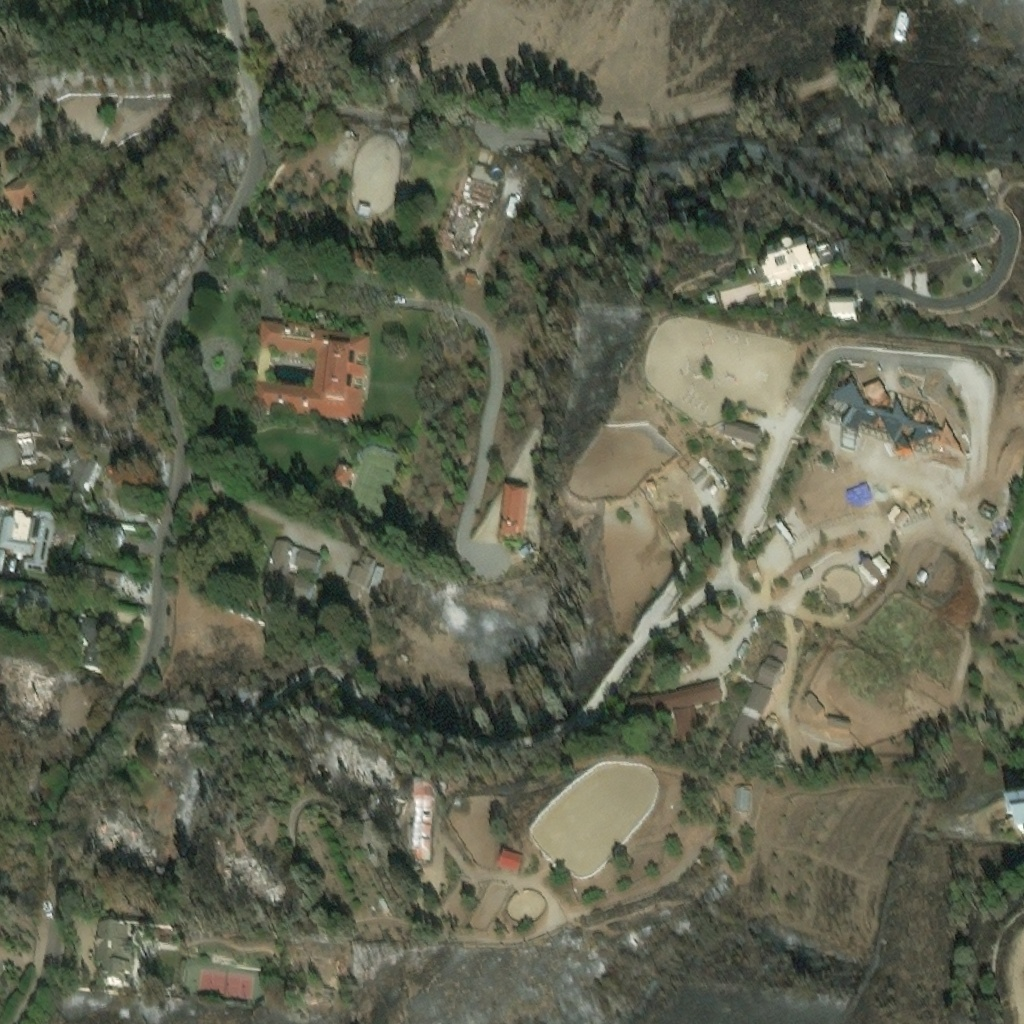0 no-damage: (247, 318, 370, 418), (831, 380, 963, 467), (629, 683, 723, 741), (256, 531, 321, 597), (25, 443, 102, 497), (725, 680, 772, 749), (4, 164, 60, 217), (760, 244, 822, 290), (94, 921, 135, 987), (80, 616, 116, 674), (24, 508, 55, 574), (13, 587, 59, 631), (496, 483, 529, 544), (81, 521, 123, 564), (412, 784, 434, 861), (340, 546, 375, 591), (0, 509, 34, 553), (0, 429, 38, 463), (718, 281, 758, 310), (342, 245, 388, 270), (722, 419, 762, 447), (753, 654, 784, 688), (820, 241, 856, 266), (46, 414, 96, 431), (844, 482, 873, 505), (496, 847, 523, 871), (1005, 795, 1023, 830), (827, 302, 859, 319), (731, 779, 749, 807), (803, 691, 824, 713), (894, 12, 907, 41), (108, 383, 125, 405), (767, 641, 786, 659), (113, 345, 126, 365), (746, 298, 765, 311), (75, 323, 89, 340), (826, 716, 847, 725), (357, 202, 370, 215), (47, 362, 58, 374), (758, 283, 767, 297), (32, 334, 43, 345), (773, 306, 785, 316), (59, 318, 69, 328), (47, 312, 57, 322), (972, 263, 982, 273), (708, 298, 717, 307)
3 destroyed: (99, 813, 160, 873), (330, 742, 398, 792), (5, 660, 51, 728), (439, 194, 487, 251), (457, 172, 496, 205), (222, 852, 257, 885), (809, 112, 838, 128)
4 un-classified: (665, 200, 703, 226), (384, 792, 409, 819), (738, 201, 752, 214)
